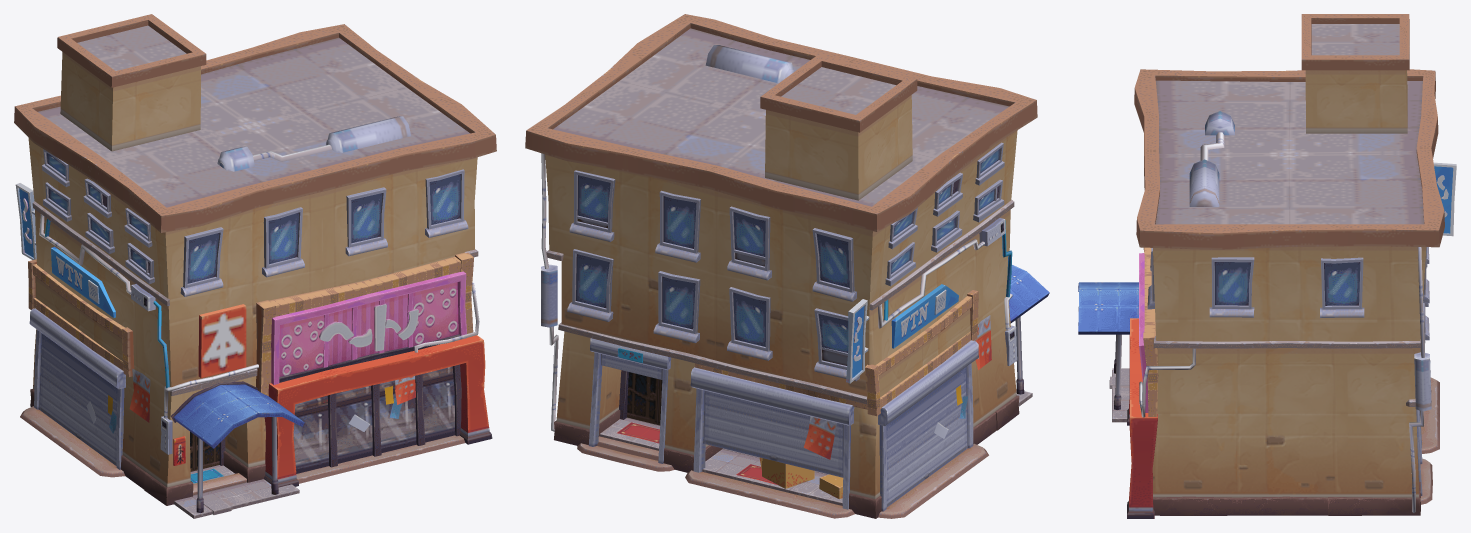
The model's file is hbxz_jz004_01.FBX.
3 views of the same model, side by side, from view 1: azimuth 30°, elevation 25°; view 2: azimuth 150°, elevation 25°; view 3: azimuth 270°, elevation 25° (orthographic). The views are drawn at different scales.
Parts seen in each view (by area): view 1: hbxz_jz004_01; view 2: hbxz_jz004_01; view 3: hbxz_jz004_01.
Boxes of the visible parts, x1,y1,x2,y2 form: hbxz_jz004_01: (14, 14, 496, 518); hbxz_jz004_01: (525, 14, 1049, 518); hbxz_jz004_01: (1078, 14, 1456, 518).
Size of the model in its own units: 854 by 870 by 813.
3 materials, 3 textured.
